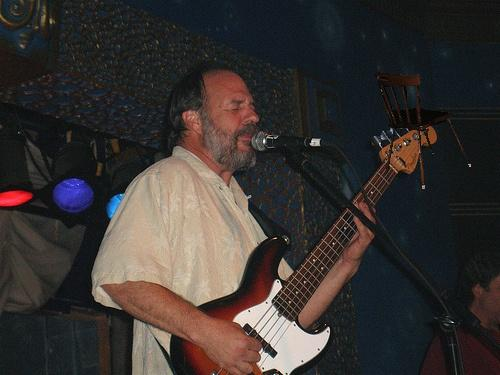tampered: (374, 73, 471, 189)
